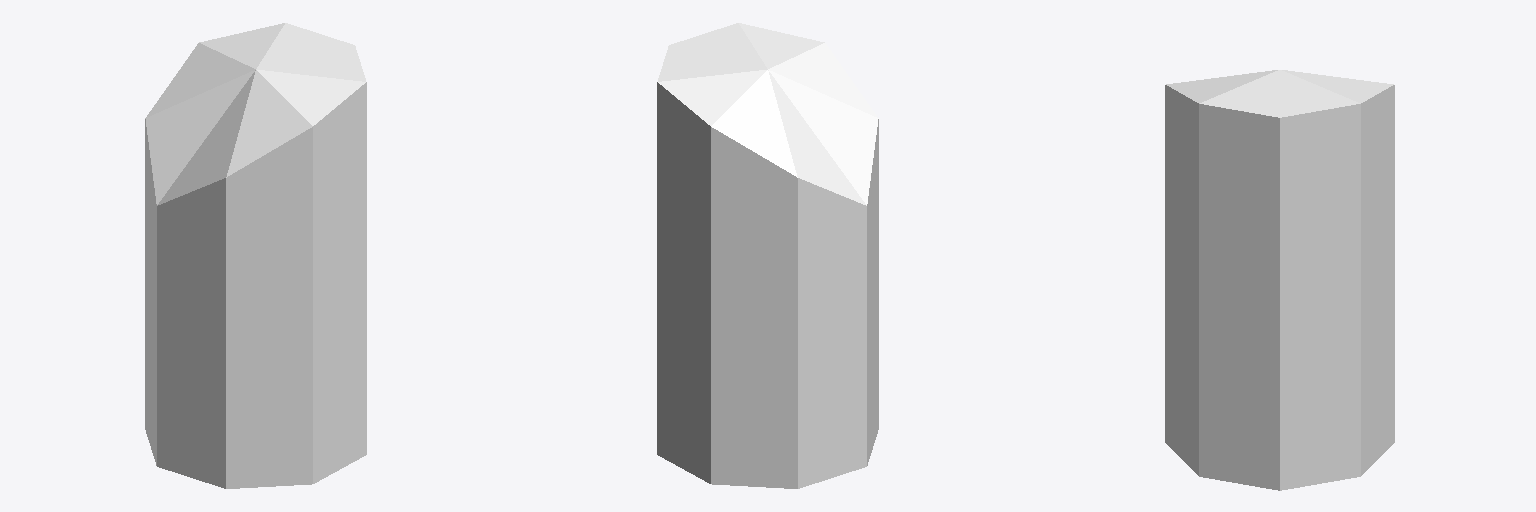
File: Post.obj
The picture shows the model from 3 angles: view 1: azimuth 30°, elevation 25°; view 2: azimuth 150°, elevation 25°; view 3: azimuth 270°, elevation 25°; orthographic projection.
Visible parts, largest first — view 1: Post; view 2: Post; view 3: Post.
Boxes of the visible parts, box(x1,y1,x2,y2) form: Post: box(145, 23, 366, 488); Post: box(657, 23, 878, 488); Post: box(1165, 70, 1394, 490).
Size of the model in its own units: 1.85 by 3.32 by 1.85.